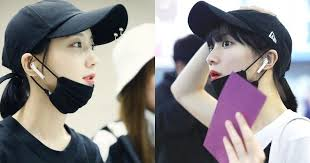earphone: (20, 53, 44, 80), (256, 49, 279, 74)
